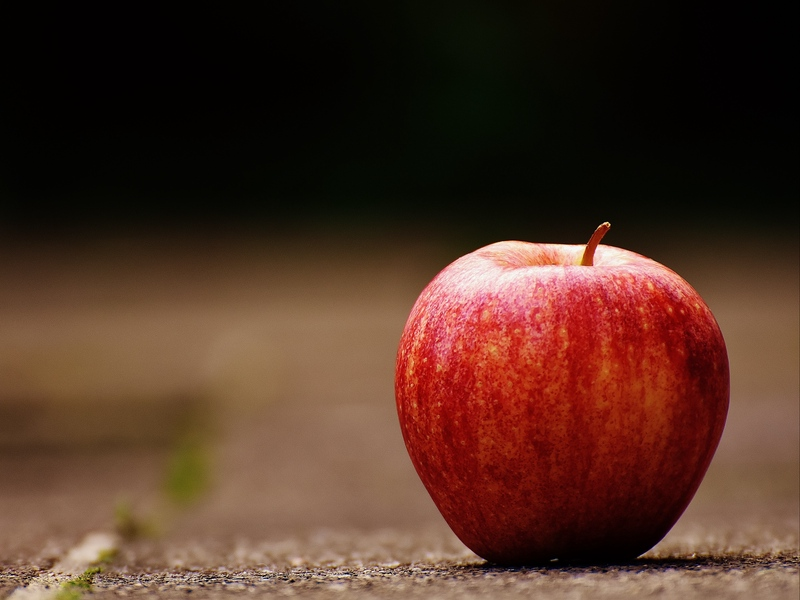elma: (394, 223, 731, 559)
